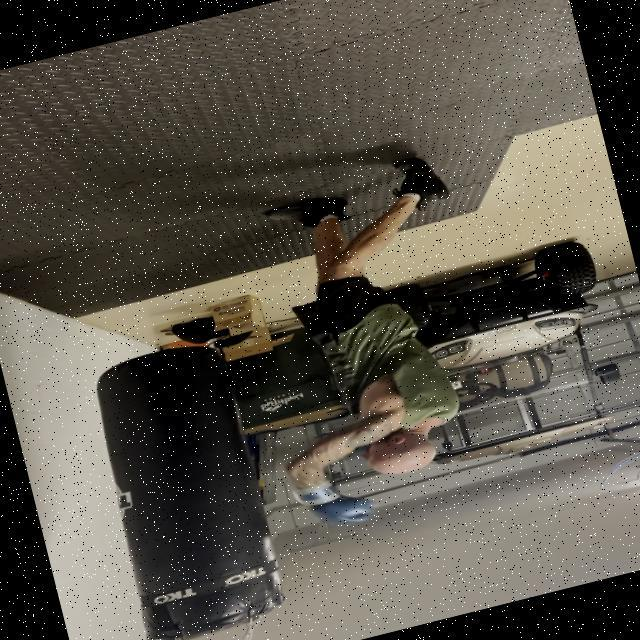bag: (69, 332, 296, 640)
uppercut: (258, 364, 493, 544)
